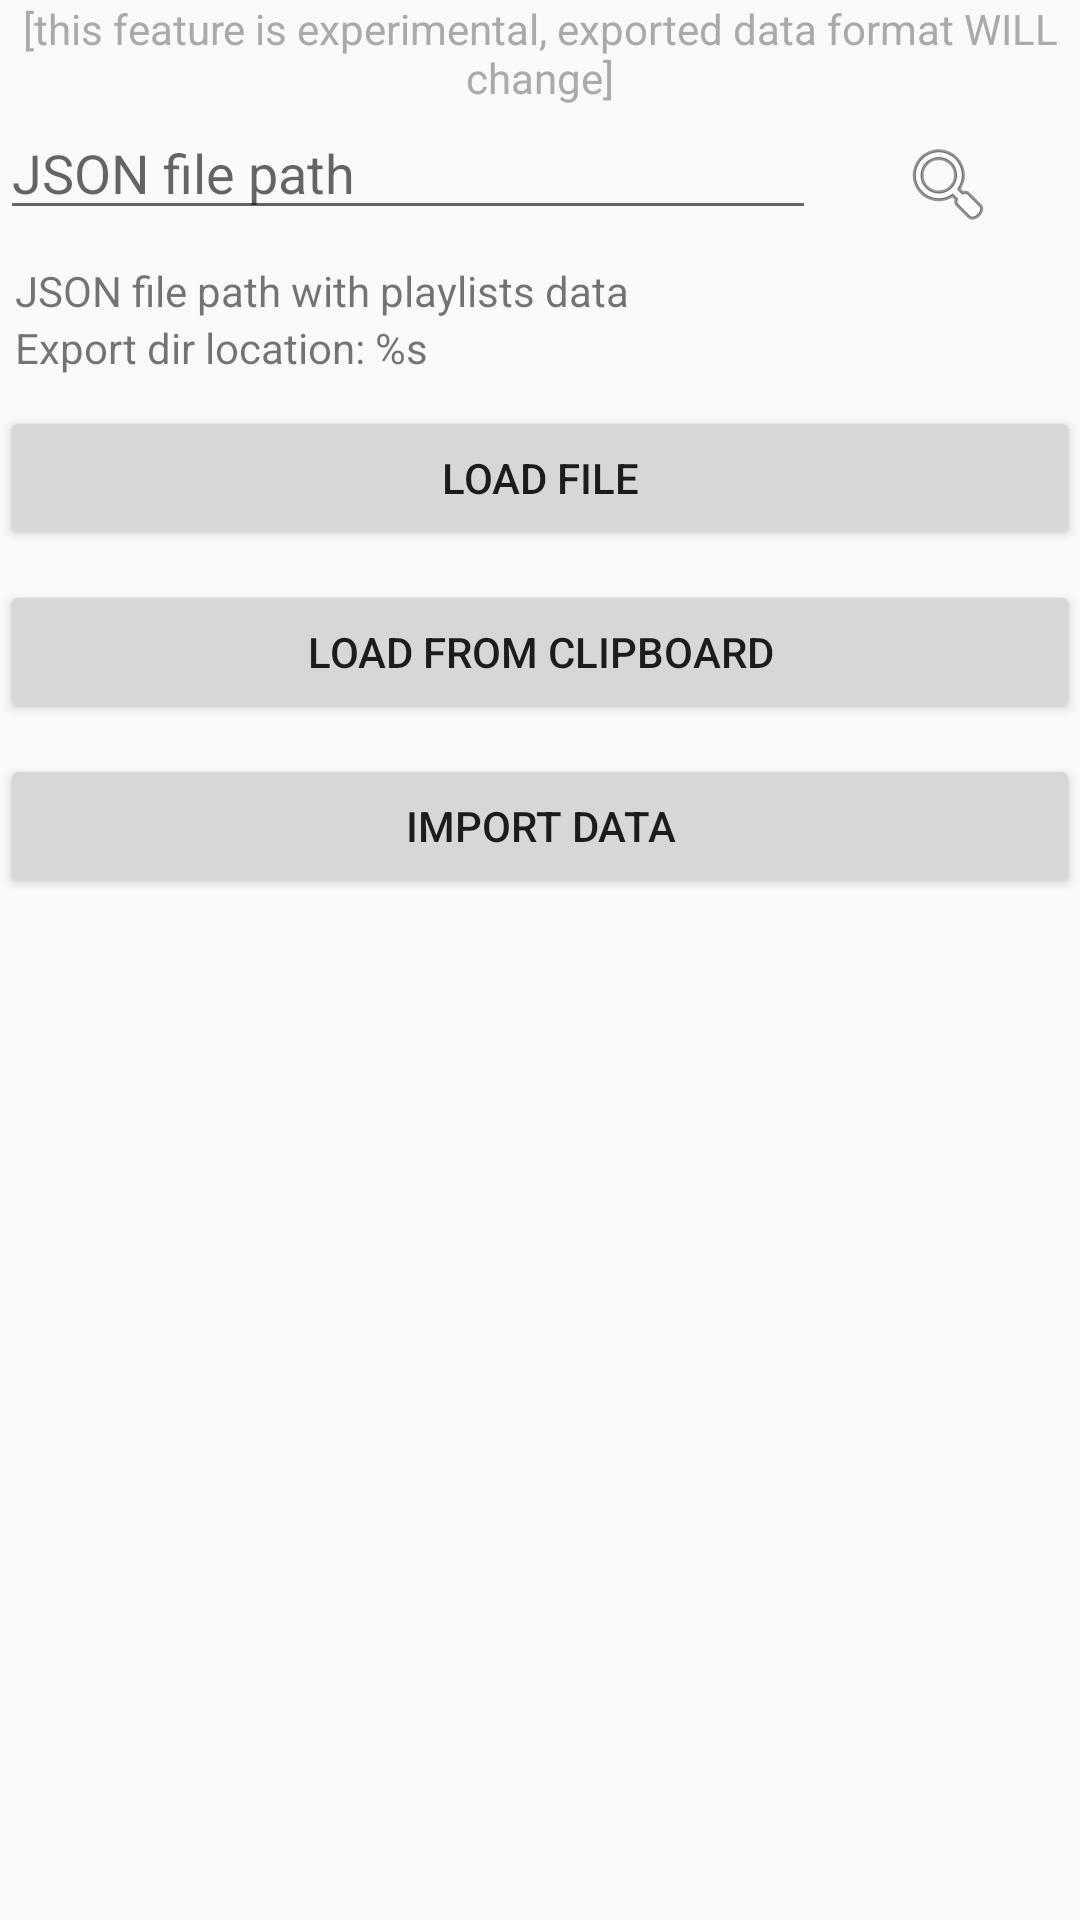

Icon click points for this 1080w x 1920h phone screenshot, format (x=x, y=y):
search: (x=948, y=184)
